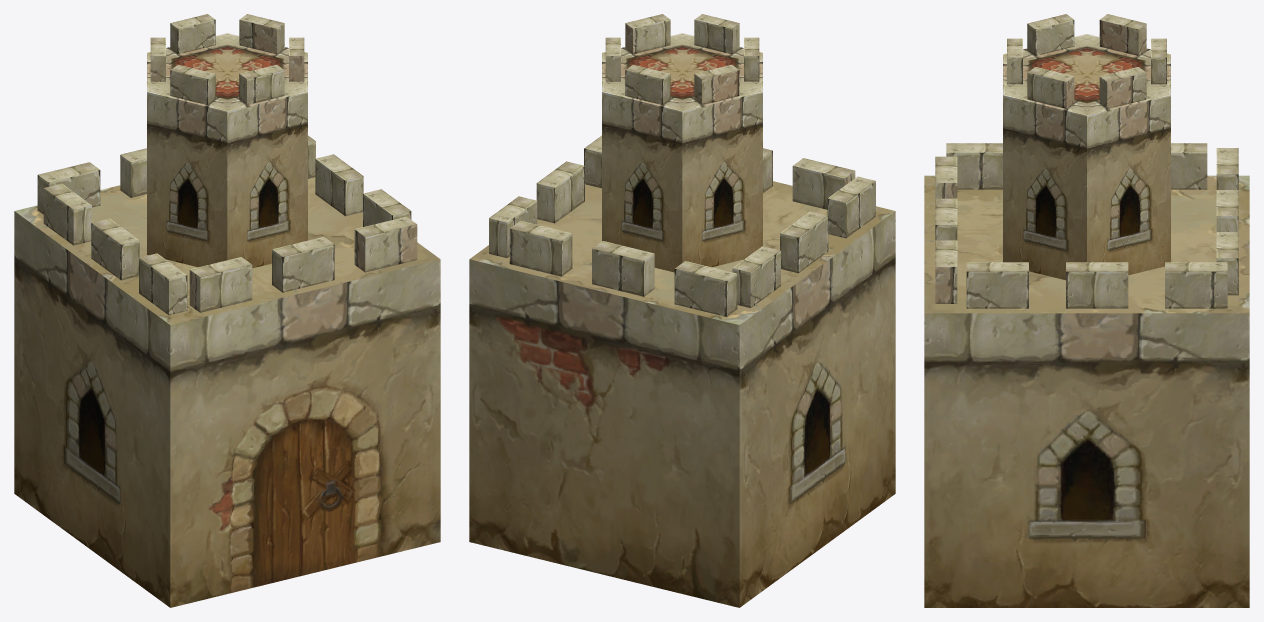
File: shamo_fangzi_1.fbx
3 renders of one model, left to right at view 1: azimuth 30°, elevation 25°; view 2: azimuth 150°, elevation 25°; view 3: azimuth 270°, elevation 25°, orthographic. The views are drawn at different scales.
Visible parts, largest first — view 1: polySurface25, polySurface32, polySurface33, polySurface35, polySurface34, polySurface42, polySurface44, polySurface37, polySurface43, polySurface39, polySurface26, polySurface31 (+6 smaller); view 2: polySurface25, polySurface32, polySurface41, polySurface39, polySurface40, polySurface37, polySurface42, polySurface43, polySurface35, polySurface44, polySurface36, polySurface29 (+6 smaller); view 3: polySurface25, polySurface32, polySurface36, polySurface37, polySurface38, polySurface42, polySurface44, polySurface27, polySurface28, polySurface30, polySurface31, polySurface33 (+7 smaller).
Part boxes in pixels (box(x1,y1,x2,y2)): polySurface25: box(14, 177, 440, 607); polySurface32: box(147, 33, 307, 268); polySurface33: box(354, 216, 417, 272); polySurface35: box(189, 257, 252, 312); polySurface34: box(272, 237, 334, 292); polySurface42: box(139, 253, 187, 315); polySurface44: box(43, 183, 91, 245); polySurface37: box(315, 154, 363, 216); polySurface43: box(91, 218, 139, 280); polySurface39: box(37, 162, 100, 214); polySurface26: box(170, 14, 215, 54); polySurface31: box(239, 14, 284, 54); polySurface25: box(469, 181, 895, 607); polySurface32: box(602, 33, 762, 272); polySurface41: box(509, 220, 572, 276); polySurface39: box(674, 261, 737, 316); polySurface40: box(592, 241, 654, 296); polySurface37: box(536, 161, 584, 223); polySurface42: box(827, 176, 875, 238); polySurface43: box(780, 211, 828, 273); polySurface35: box(792, 158, 855, 209); polySurface44: box(732, 246, 780, 307); polySurface36: box(489, 196, 537, 257); polySurface29: box(694, 14, 739, 54); polySurface25: box(924, 175, 1249, 607); polySurface32: box(1003, 34, 1170, 280); polySurface36: box(1165, 262, 1227, 308); polySurface37: box(1066, 262, 1128, 308); polySurface38: box(966, 262, 1028, 308); polySurface42: box(946, 143, 1002, 189); polySurface44: box(1171, 143, 1207, 189); polySurface27: box(1099, 14, 1146, 55); polySurface28: box(1027, 14, 1074, 55); polySurface30: box(1027, 67, 1074, 108); polySurface31: box(1099, 67, 1146, 108); polySurface33: box(935, 240, 957, 303).
Bounding box in the file's own units: 5.89 × 9.82 × 5.89.
